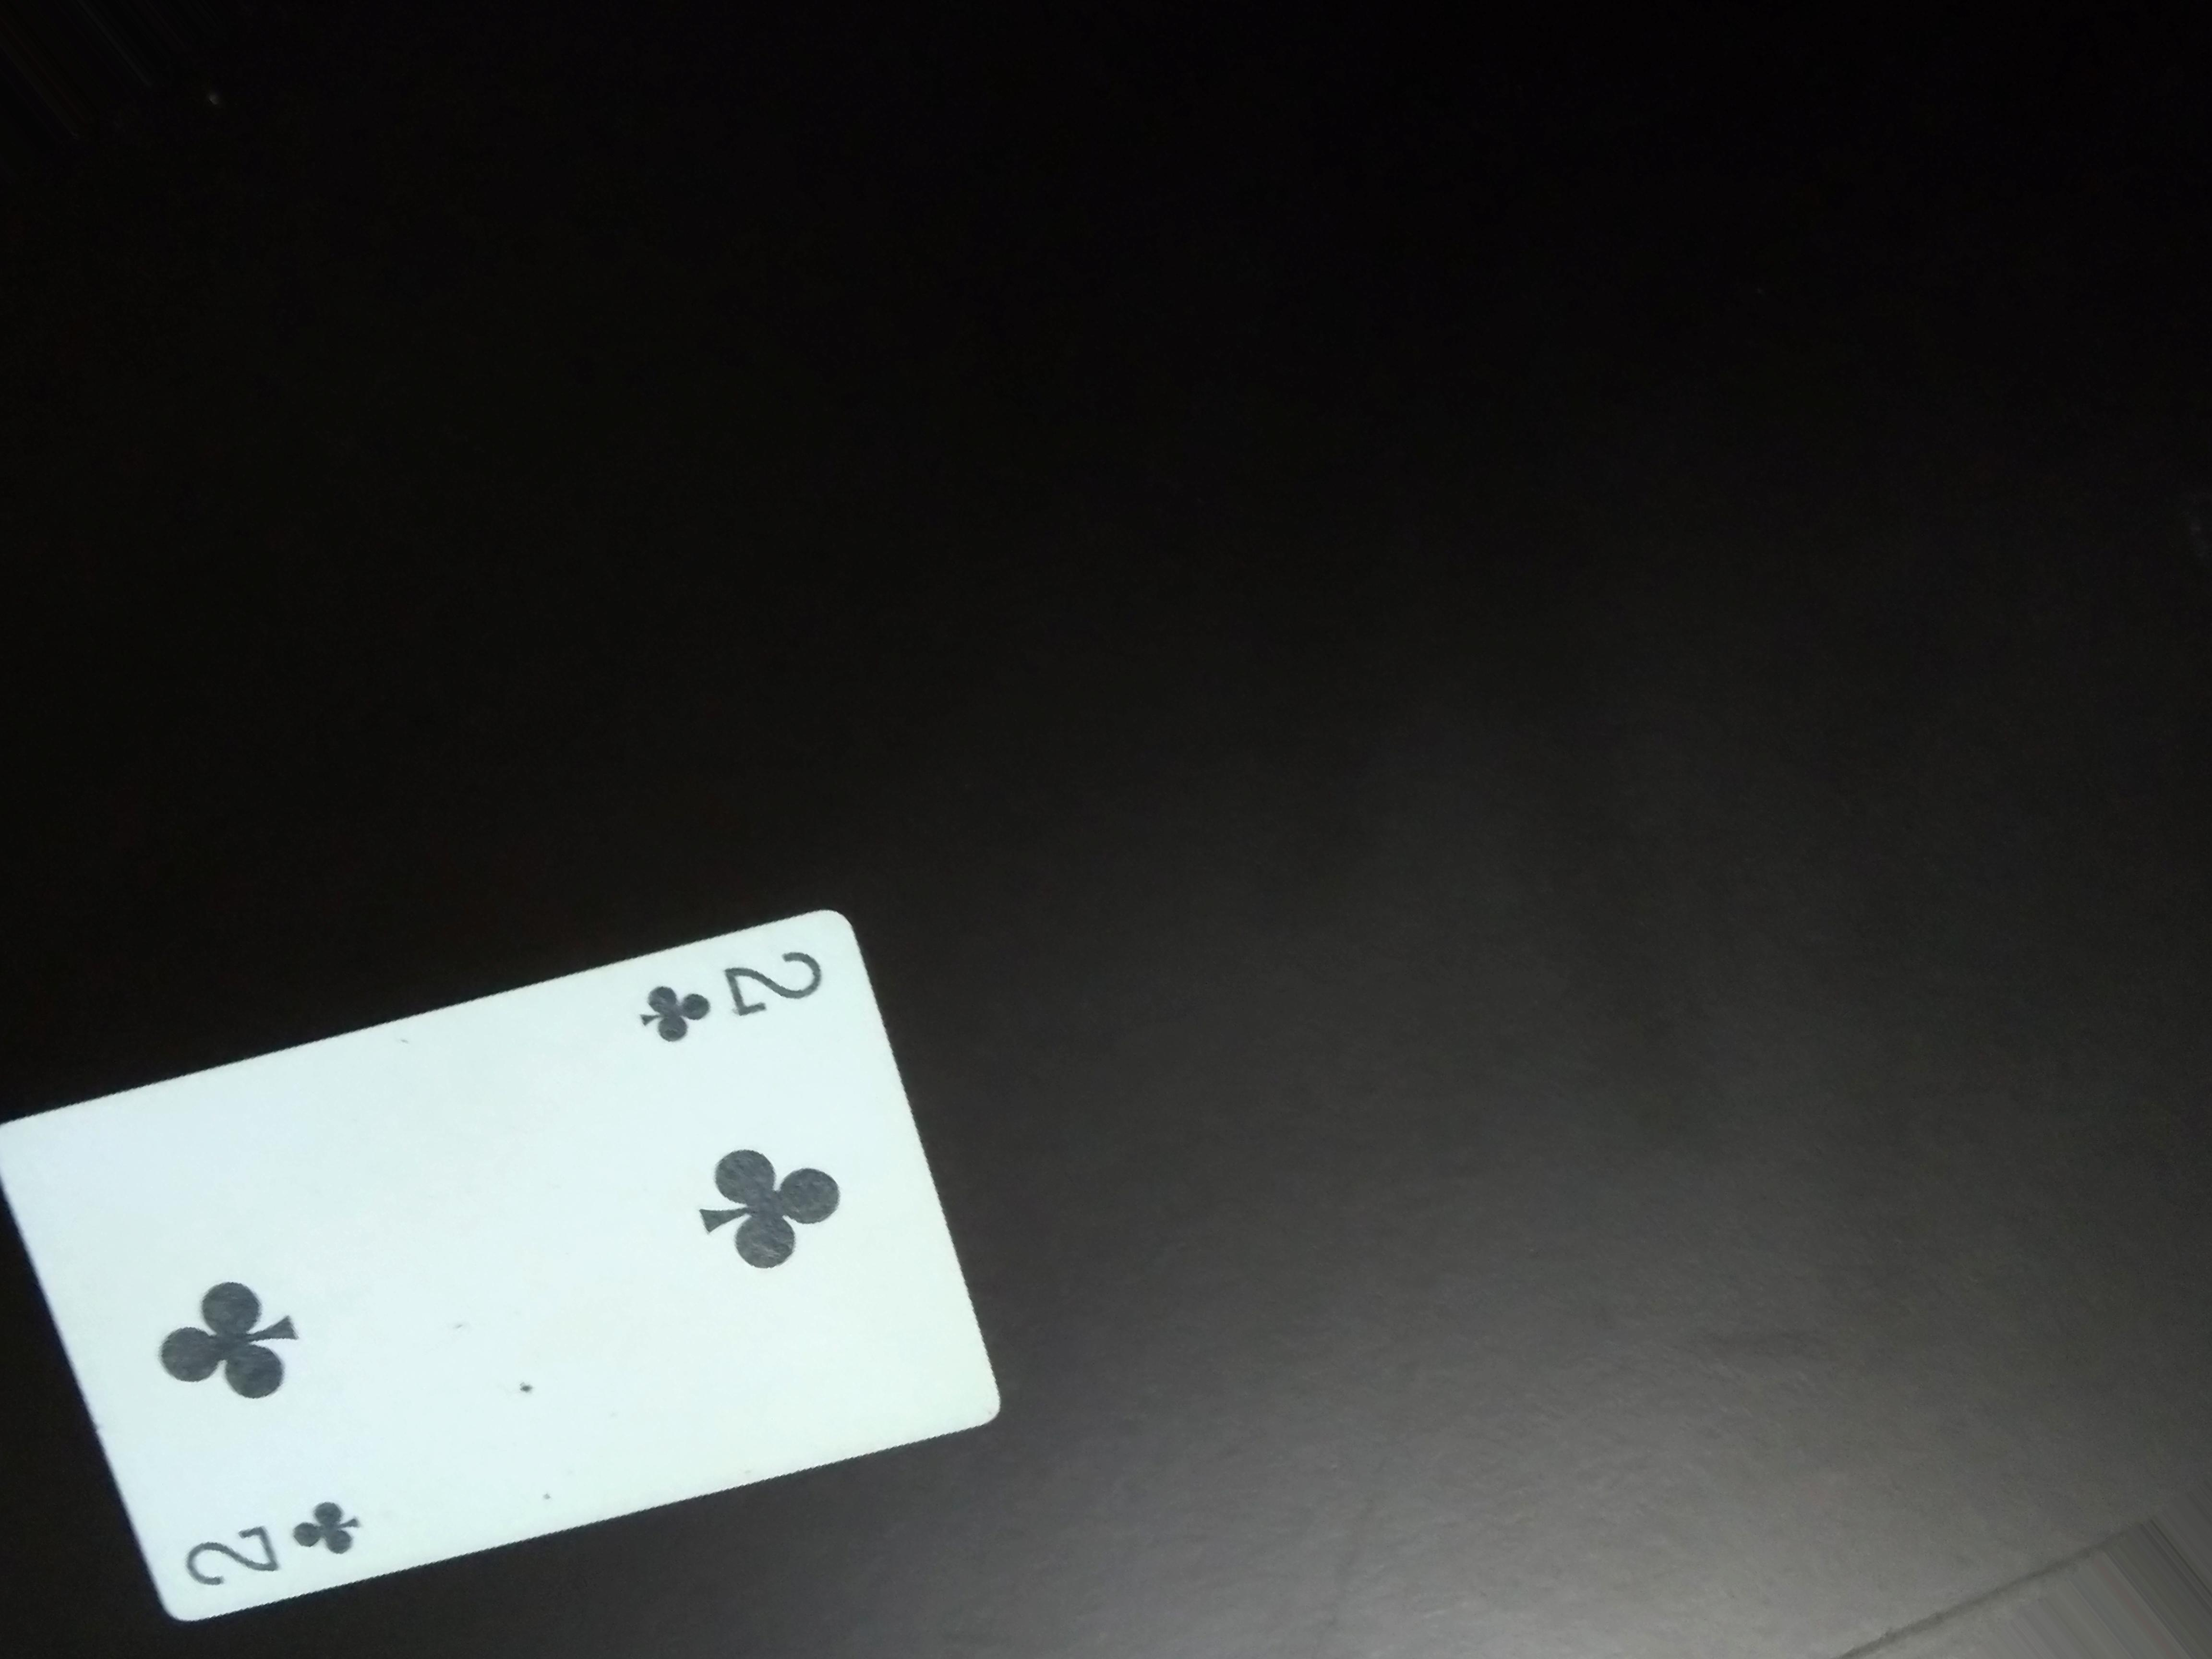2C: (636, 927, 817, 1079)
